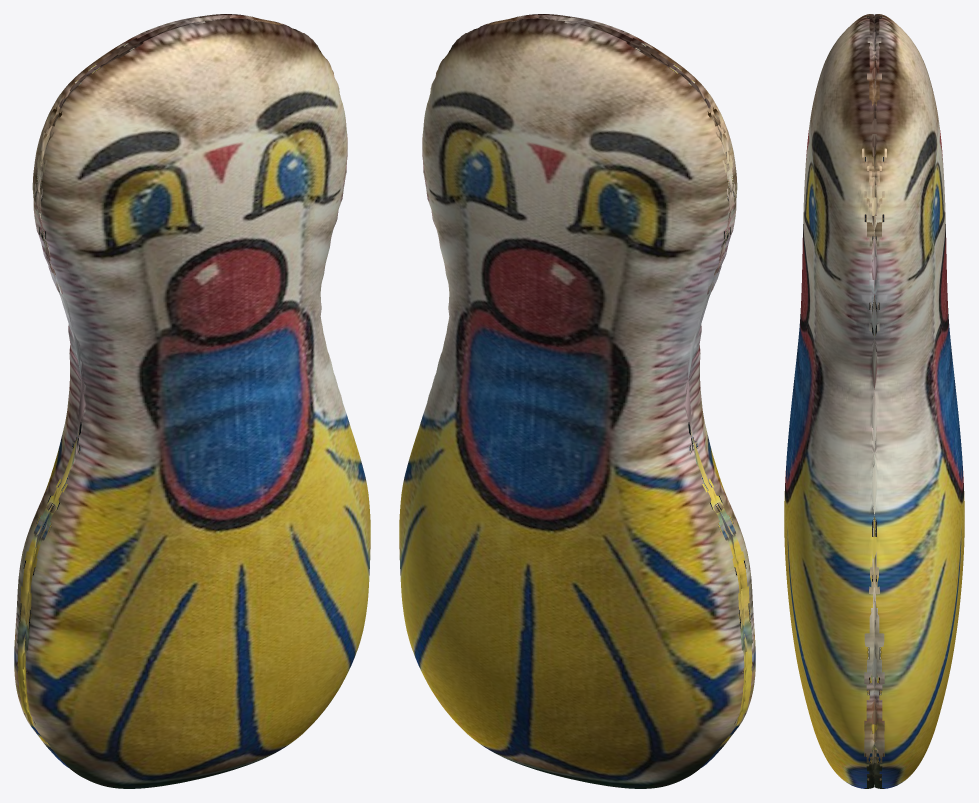
The model's file is CLOWN_02 (1).fbx.
The picture shows the model from 3 angles, left to right: view 1: azimuth 30°, elevation 25°; view 2: azimuth 150°, elevation 25°; view 3: azimuth 270°, elevation 25°; orthographic projection. The views are drawn at different scales.
Visible parts, largest first — view 1: Sphere.002; view 2: Sphere.002; view 3: Sphere.002.
Part boxes in pixels (x1,y1,x2,y2): Sphere.002: (14,14,370,788); Sphere.002: (399,14,755,788); Sphere.002: (784,14,964,788).
Bounding box in the file's own units: 0.5907 × 1.24 × 0.2802.
1 material, 1 textured.
